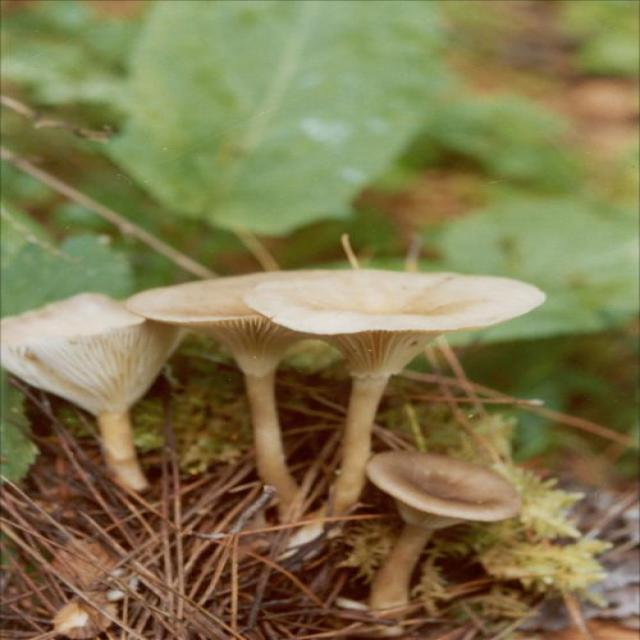Clitocybe maxima: (266, 268, 547, 518), (131, 272, 325, 519), (1, 289, 174, 499), (366, 455, 518, 609)
